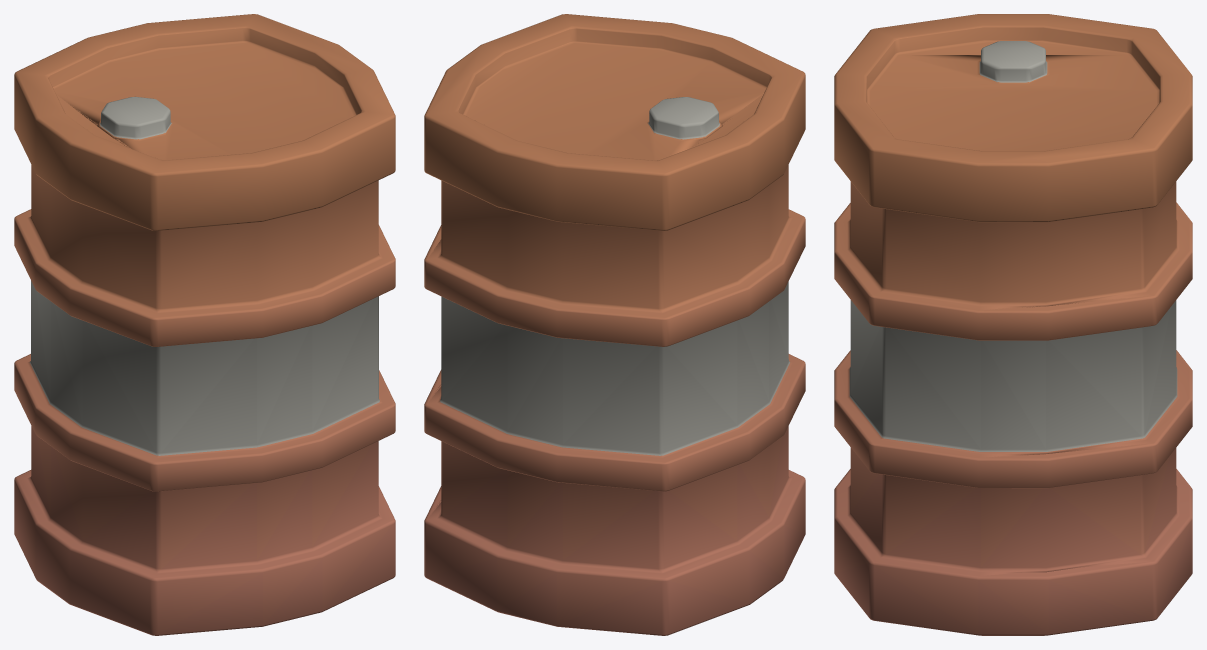
Rendered from prop_barrel_01.glb.
3 views of the same model, side by side, from view 1: azimuth 30°, elevation 25°; view 2: azimuth 150°, elevation 25°; view 3: azimuth 270°, elevation 25° (orthographic). The views are drawn at different scales.
Visible parts, largest first — view 1: prop_barrel_01; view 2: prop_barrel_01; view 3: prop_barrel_01.
Boxes of the visible parts, x1,y1,x2,y2 form: prop_barrel_01: (14,14,395,635); prop_barrel_01: (424,14,805,635); prop_barrel_01: (834,14,1192,635).
Size of the model in its own units: 0.2365 by 0.344 by 0.2365.
